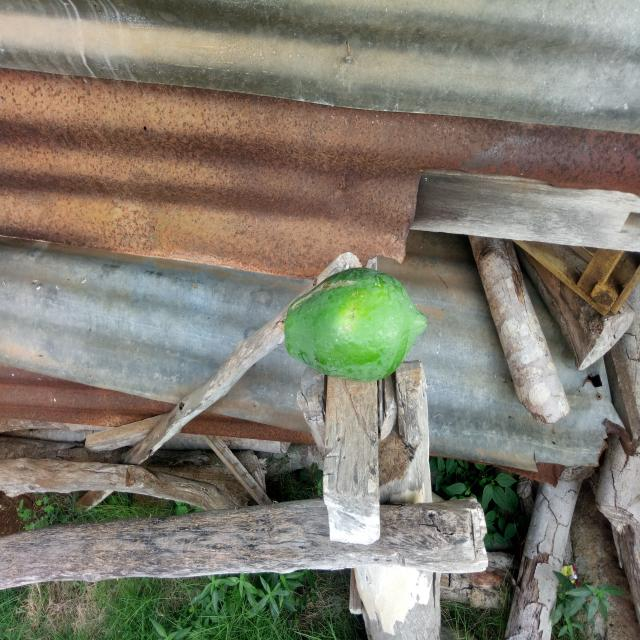Pepaya unrippen: (280, 264, 428, 390)
